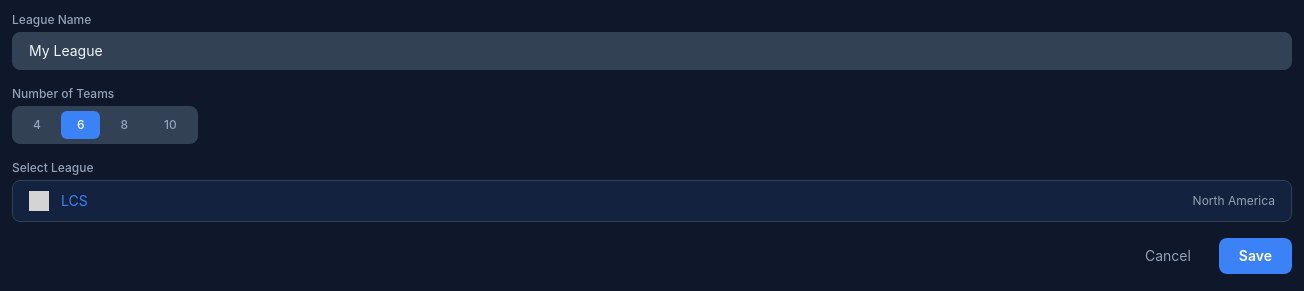
Test case: SettingsTab › clicking Cancel exits edit mode without saving
The image size is (1304, 291).
// Modify the name
Replace the text in the field with "Changed Name": (652, 51) [12, 32, 1292, 70]
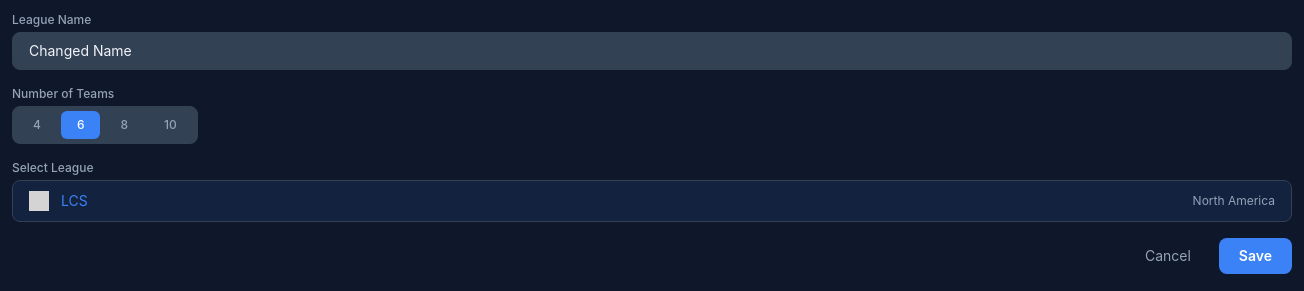
// Click Cancel
Click the button "Cancel": (1168, 256) [1129, 238, 1207, 274]
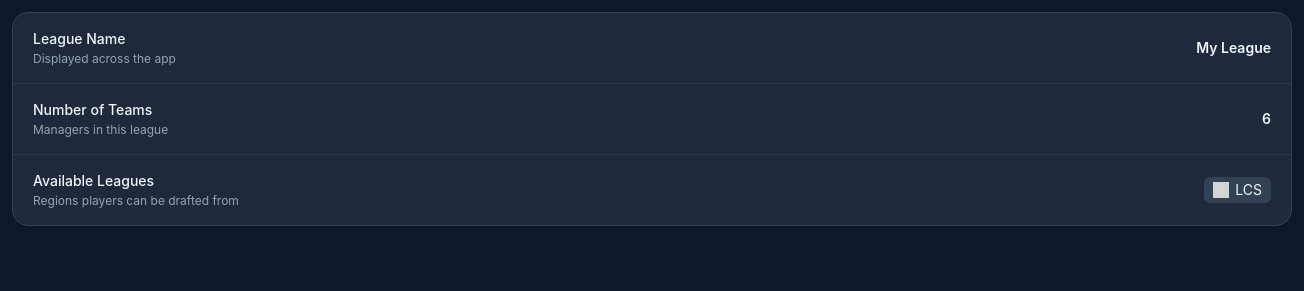
Expected: the text "Changed Name" is not shown
Expected: the text "My League" is shown, [1196, 38, 1271, 58]
